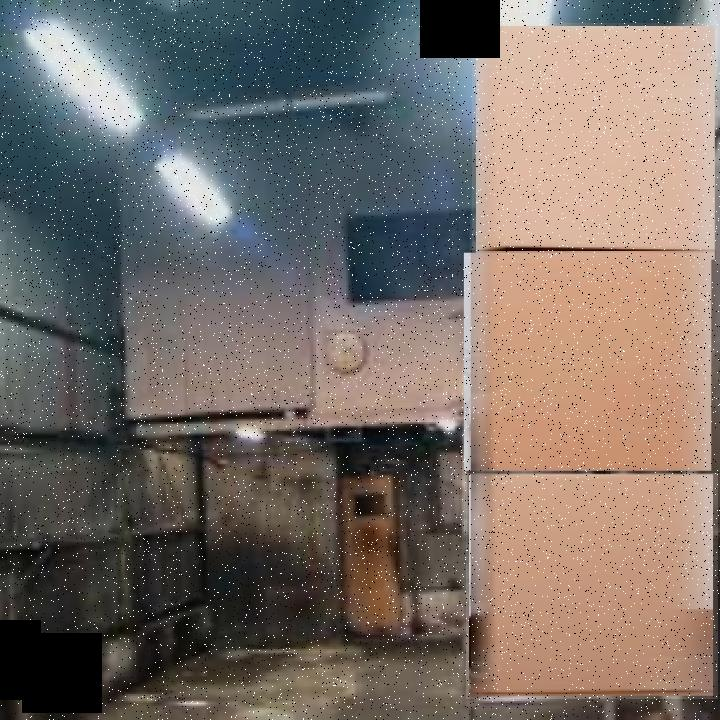box: (472, 23, 720, 264), (461, 250, 716, 475), (466, 473, 718, 699)
